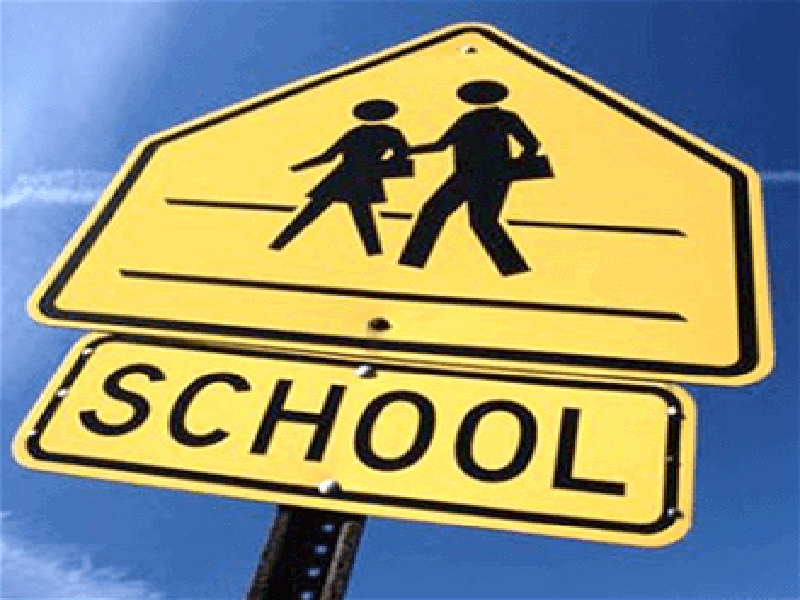slow: (34, 16, 778, 385)
